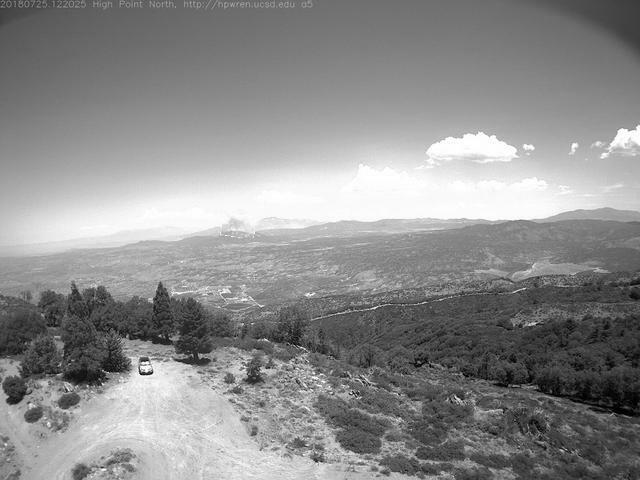smoke: (222, 215, 257, 239)
